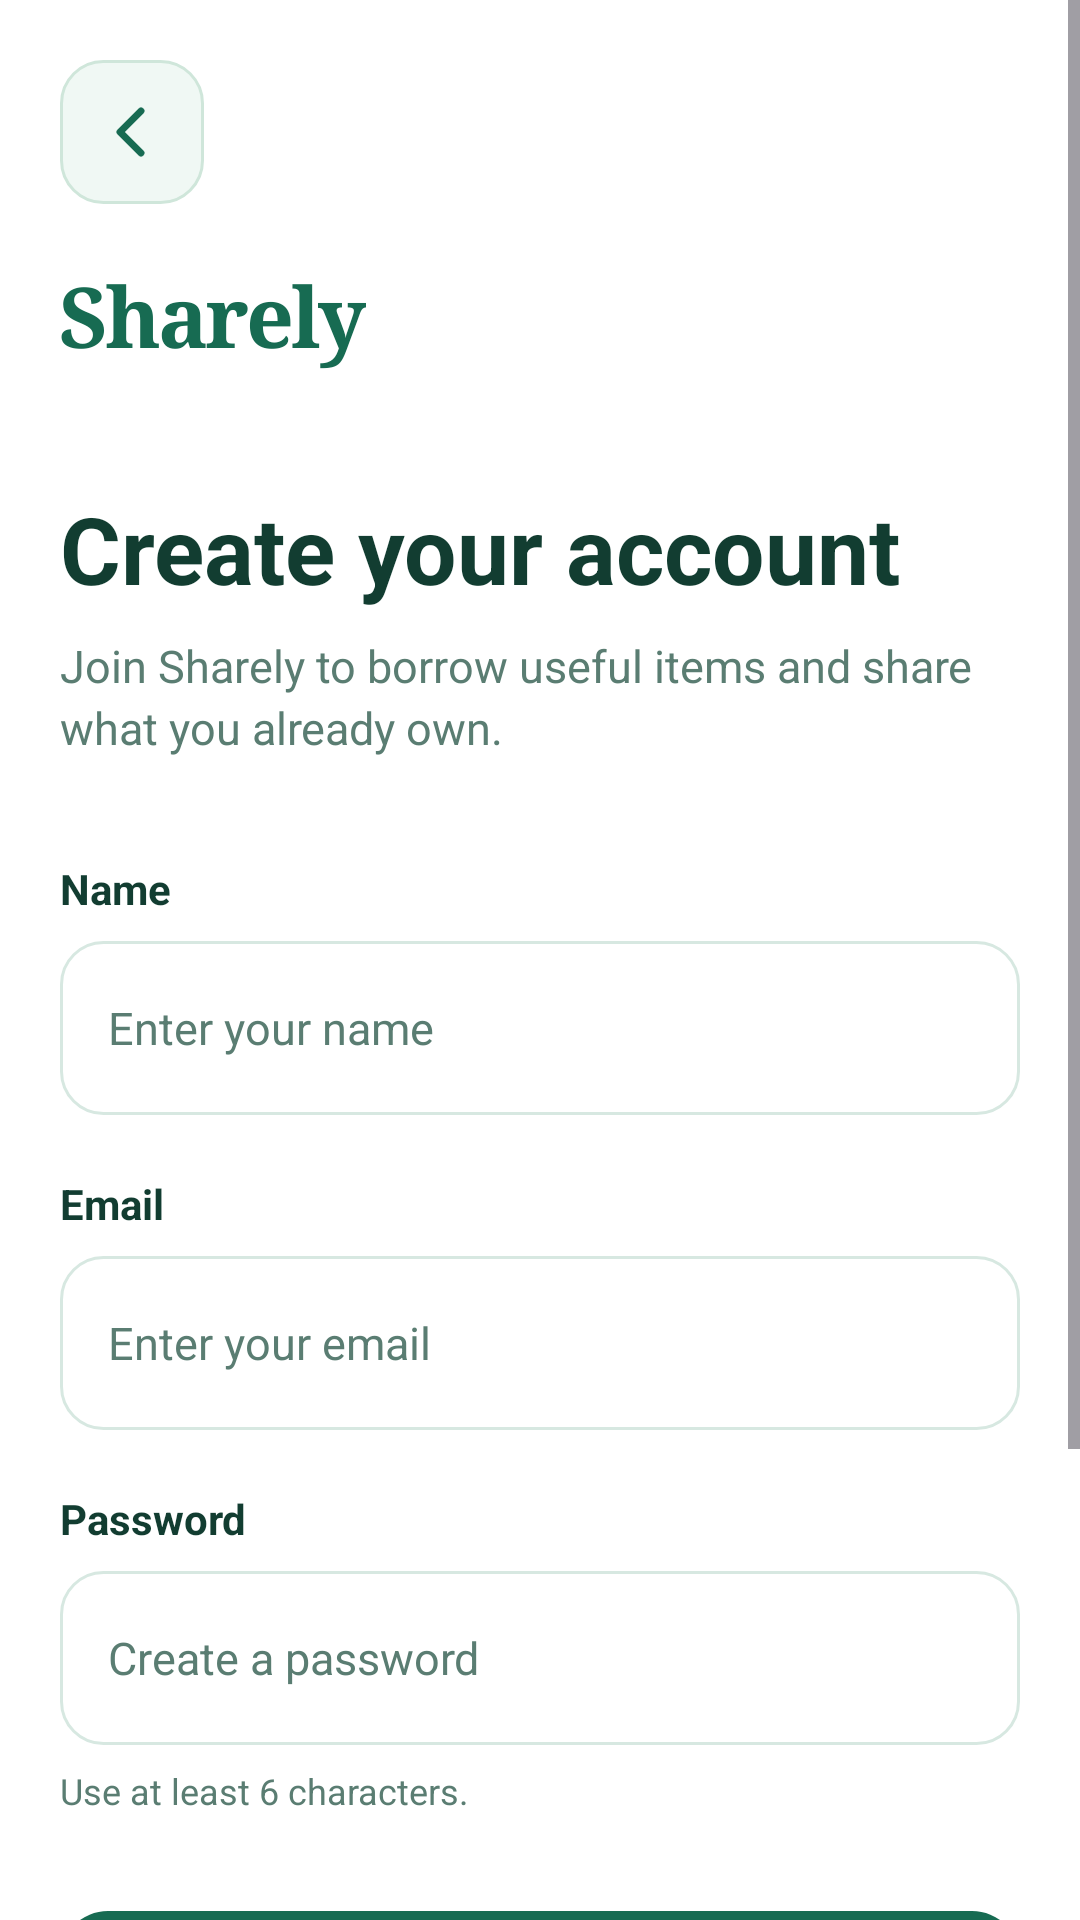

Icons on this 1080px×1920px Android screen, each with the point to tap as (x,y):
Back: (132,132)
